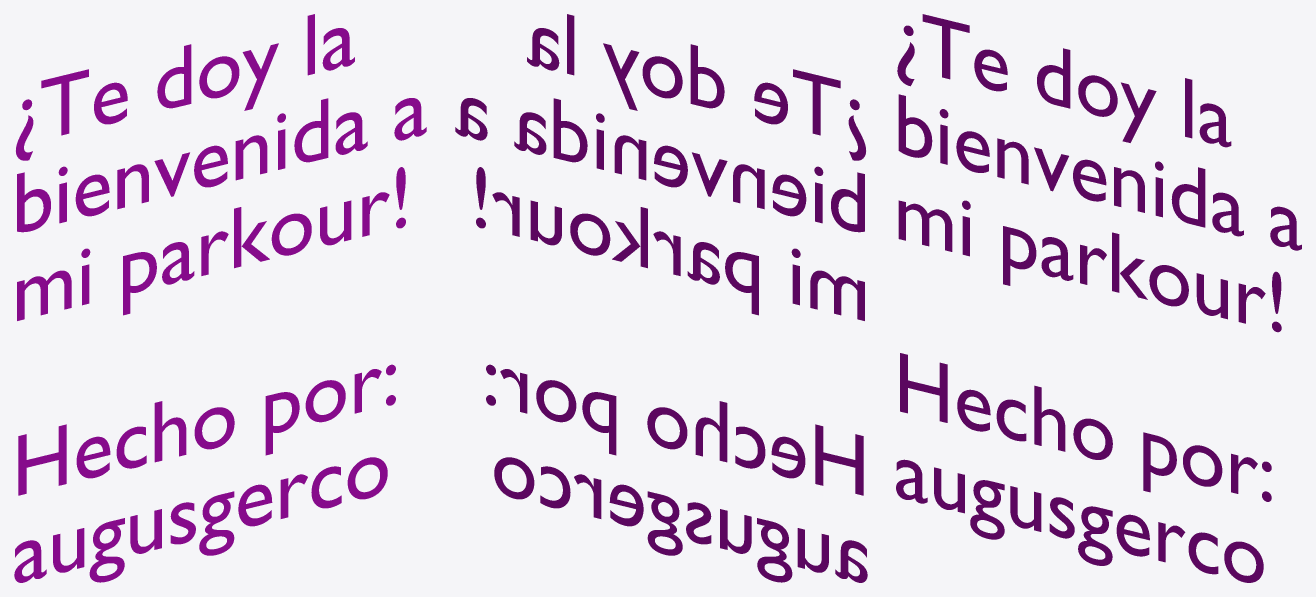
The model's file is PARKOUR.fbx.
The picture shows the model from 3 angles, left to right: view 1: azimuth 30°, elevation 25°; view 2: azimuth 150°, elevation 25°; view 3: azimuth 330°, elevation 25°; orthographic projection.
Visible parts, largest first — view 1: Text.002; view 2: Text.002; view 3: Text.002.
Boxes of the visible parts, x1=… form: Text.002: x1=14, y1=14, x2=426, y2=582; Text.002: x1=455, y1=14, x2=867, y2=582; Text.002: x1=896, y1=14, x2=1301, y2=582.
Size of the model in its own units: 493 by 591 by 9.63e-05.
